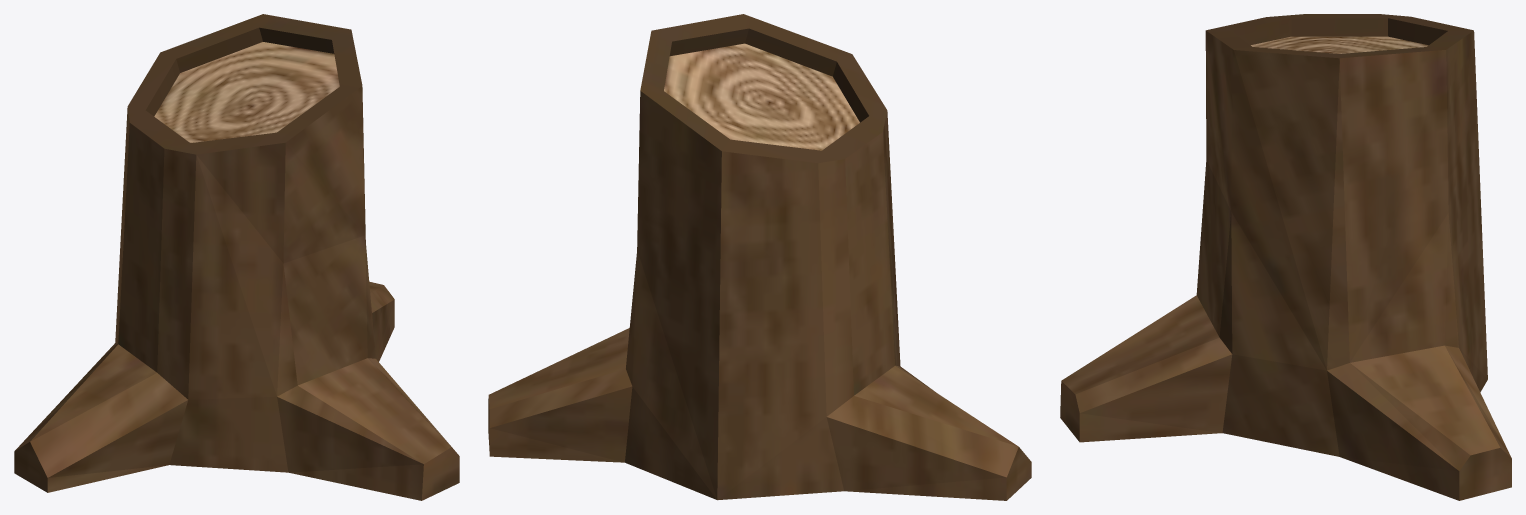
Rendered from stump_12.glb.
3 renders of one model, left to right at view 1: azimuth 30°, elevation 25°; view 2: azimuth 150°, elevation 25°; view 3: azimuth 270°, elevation 25°, orthographic. The views are drawn at different scales.
Visible parts, largest first — view 1: _12_tree__12_tree_0; view 2: _12_tree__12_tree_0; view 3: _12_tree__12_tree_0.
Part boxes in pixels (left/top/right/bottom): _12_tree__12_tree_0: left=14, top=14, right=459, bottom=500; _12_tree__12_tree_0: left=488, top=14, right=1031, bottom=500; _12_tree__12_tree_0: left=1060, top=14, right=1511, bottom=500.
Bounding box in the file's own units: 1.64 × 1.3 × 1.36.
1 material, 1 textured.
